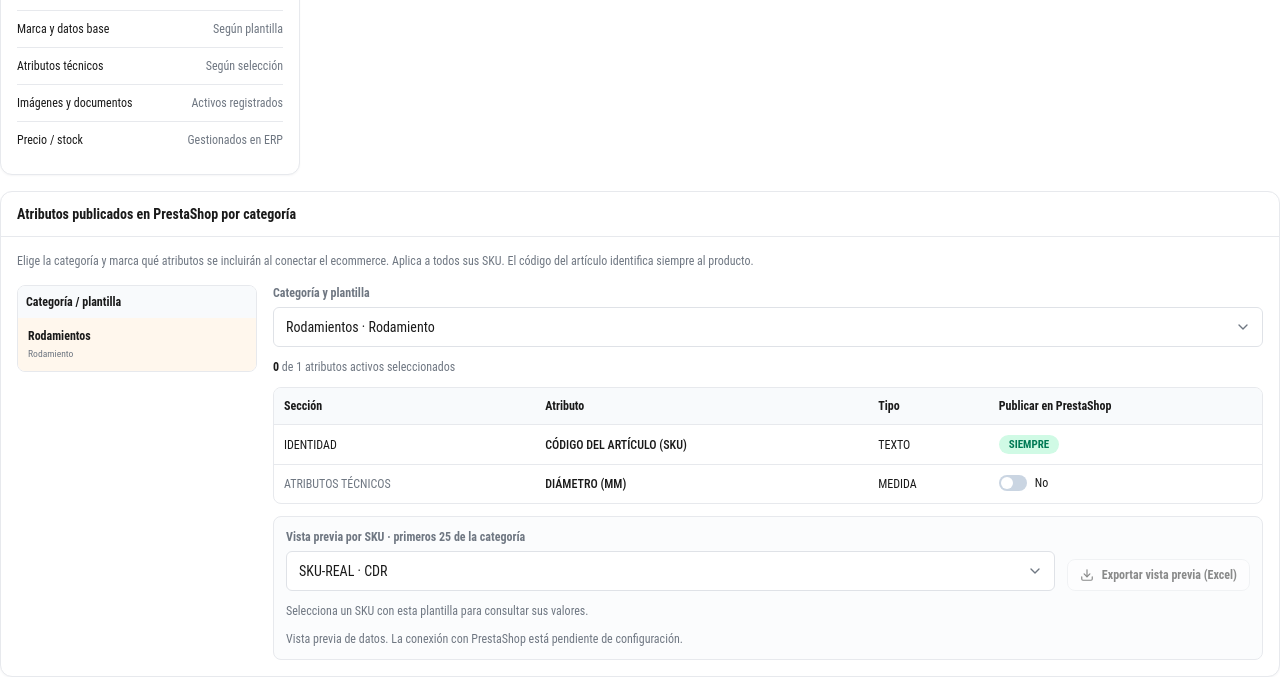
Scenario: PublicationWorkspace › loads the chosen template on the server and persists the real flag with optimistic concurrency
(page scrolled)
Click the switch named "Publicar en PrestaShop: Diámetro". click: (1024, 483)
box: x1=999 y1=475 x2=1048 y2=491
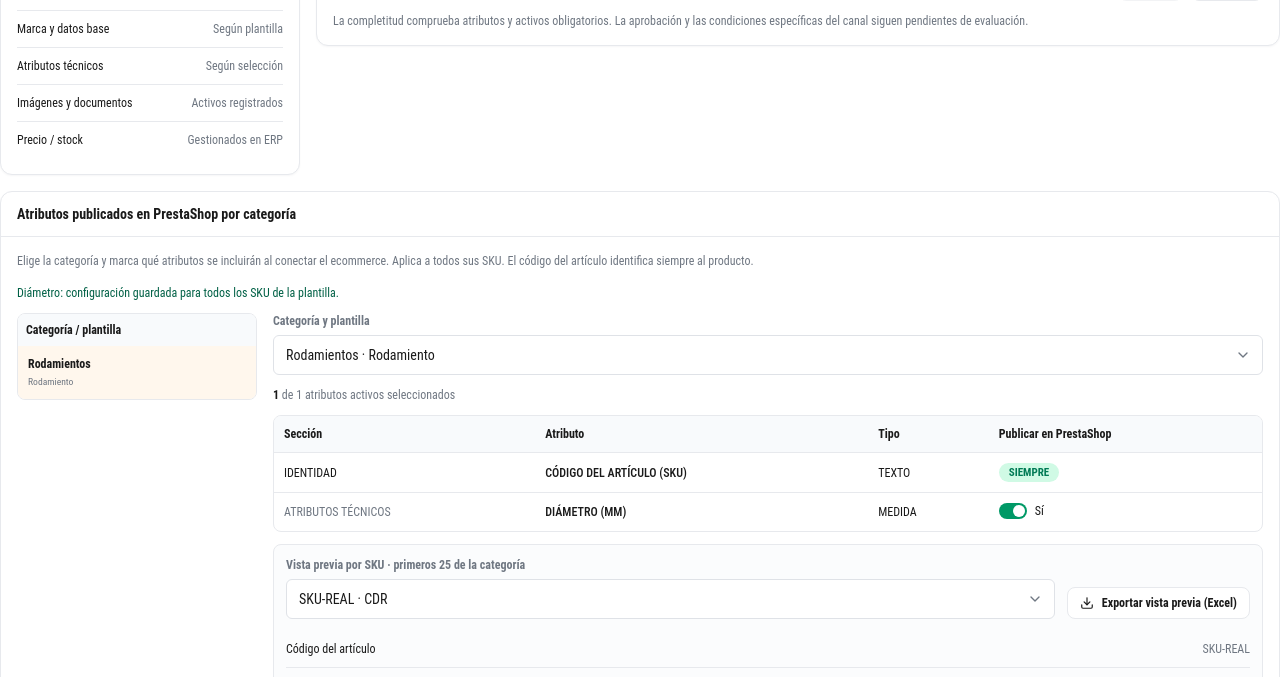
Result: the text "Diámetro: configuración guardada para todos los SKU de la plantilla." is shown at x1=17 y1=286 x2=339 y2=300
